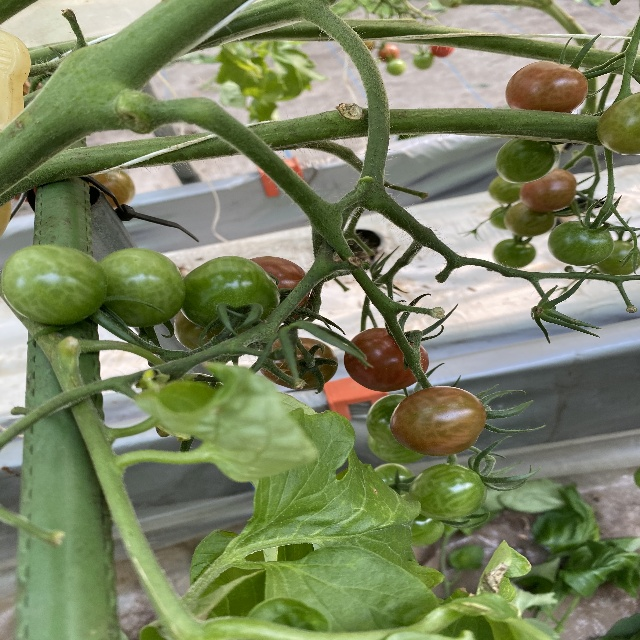l_fully_ripened: (344, 328, 428, 391), (251, 256, 310, 326)
l_green: (7, 244, 109, 326), (179, 256, 281, 331), (98, 247, 186, 328), (409, 464, 487, 520), (547, 220, 614, 266), (494, 138, 560, 182), (368, 394, 410, 449), (367, 437, 428, 465), (596, 240, 640, 276), (375, 464, 415, 496), (493, 238, 536, 267), (411, 515, 447, 547), (490, 176, 524, 204)
l_half_ripened: (389, 385, 487, 457), (172, 309, 264, 358), (256, 336, 339, 390), (506, 62, 588, 113), (597, 92, 640, 155), (519, 168, 577, 212), (88, 170, 135, 208), (504, 202, 555, 236)
